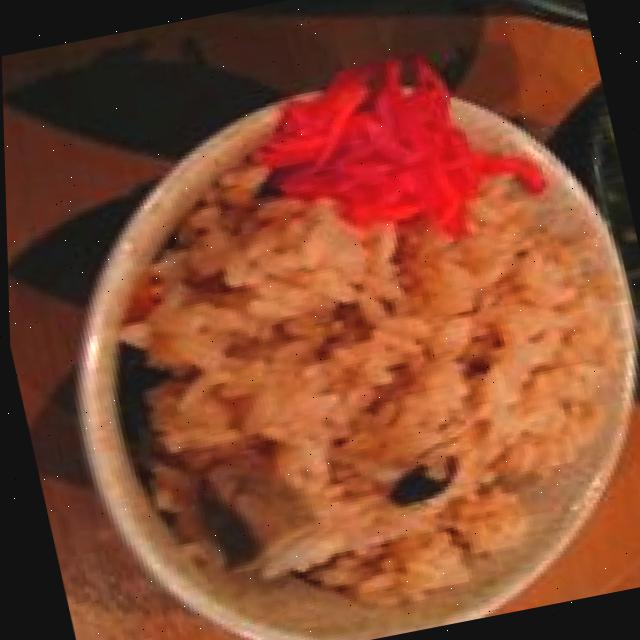米饭主食: (27, 31, 640, 640)
